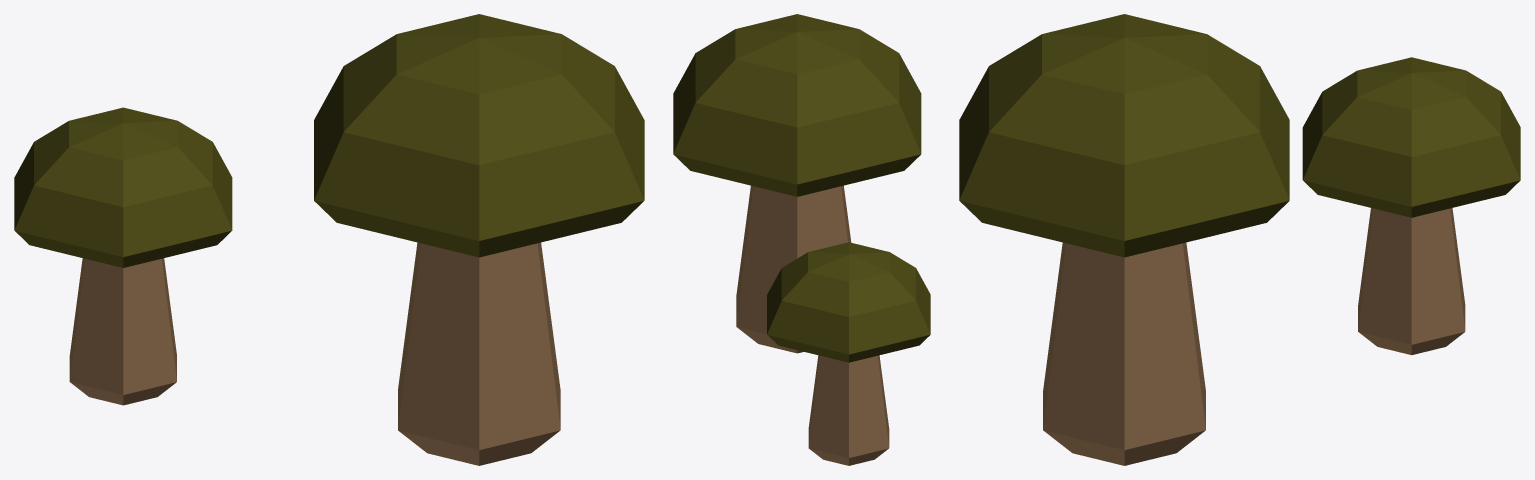
File: mushroom6.FBX
3 renders of one model, left to right at view 1: azimuth 30°, elevation 25°; view 2: azimuth 150°, elevation 25°; view 3: azimuth 270°, elevation 25°, orthographic. The views are drawn at different scales.
Visible parts, largest first — view 1: mushroom6; view 2: mushroom6; view 3: mushroom6.
Part boxes in pixels (left/top/right/bottom): mushroom6: left=14, top=14, right=644, bottom=465; mushroom6: left=673, top=14, right=930, bottom=465; mushroom6: left=959, top=14, right=1520, bottom=465.
Bounding box in the file's own units: 16.59 × 16.58 × 13.17.
